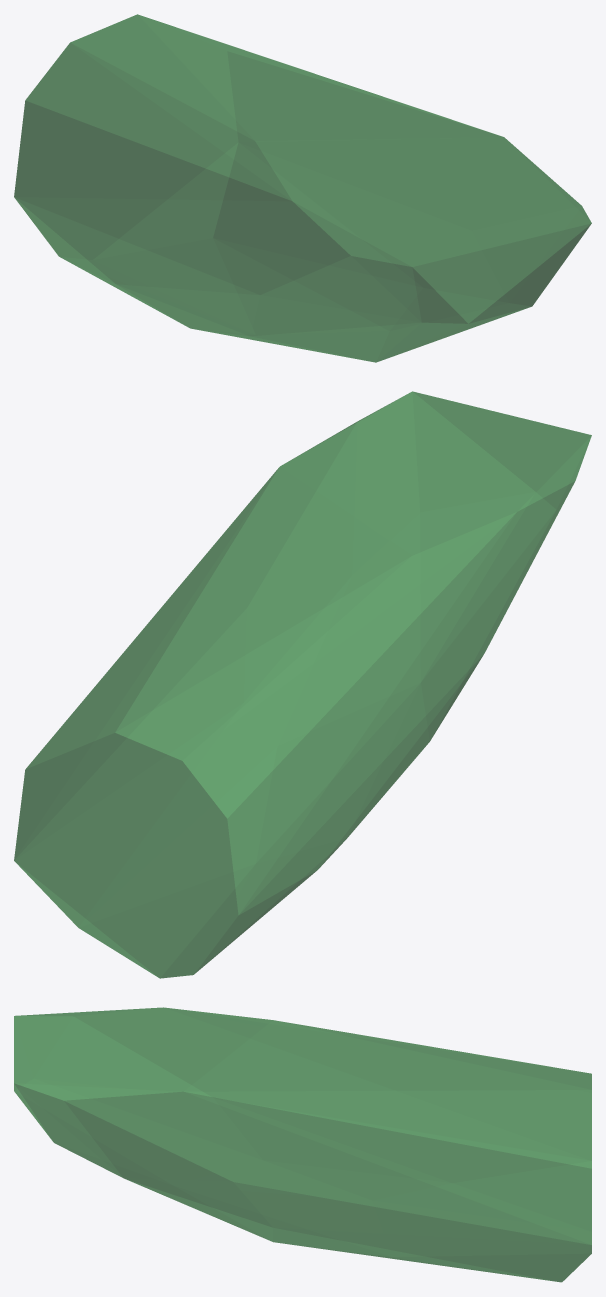
3 renders of one model, top to bottom at view 1: azimuth 30°, elevation 25°; view 2: azimuth 150°, elevation 25°; view 3: azimuth 270°, elevation 25°, orthographic. The views are drawn at different scales.
Visible parts, largest first — view 1: Shape_IndexedFaceSet.003_Shape_IndexedFaceSet.10638; view 2: Shape_IndexedFaceSet.003_Shape_IndexedFaceSet.10638; view 3: Shape_IndexedFaceSet.003_Shape_IndexedFaceSet.10638.
Boxes of the visible parts, x1,y1,x2,y2 form: Shape_IndexedFaceSet.003_Shape_IndexedFaceSet.10638: (14,14,591,362); Shape_IndexedFaceSet.003_Shape_IndexedFaceSet.10638: (14,391,591,978); Shape_IndexedFaceSet.003_Shape_IndexedFaceSet.10638: (14,1007,591,1282).
Bounding box in the file's own units: 0.0496 × 0.0595 × 0.1439.
